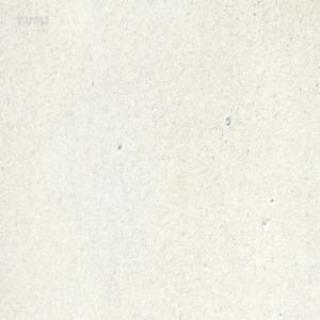Washertrack_idkeyframe: (224, 114, 230, 125)
